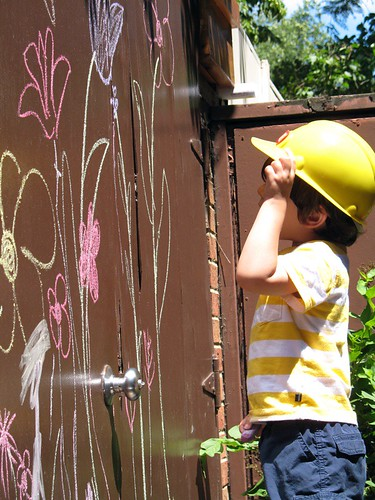person hardhat: (250, 118, 375, 243)
